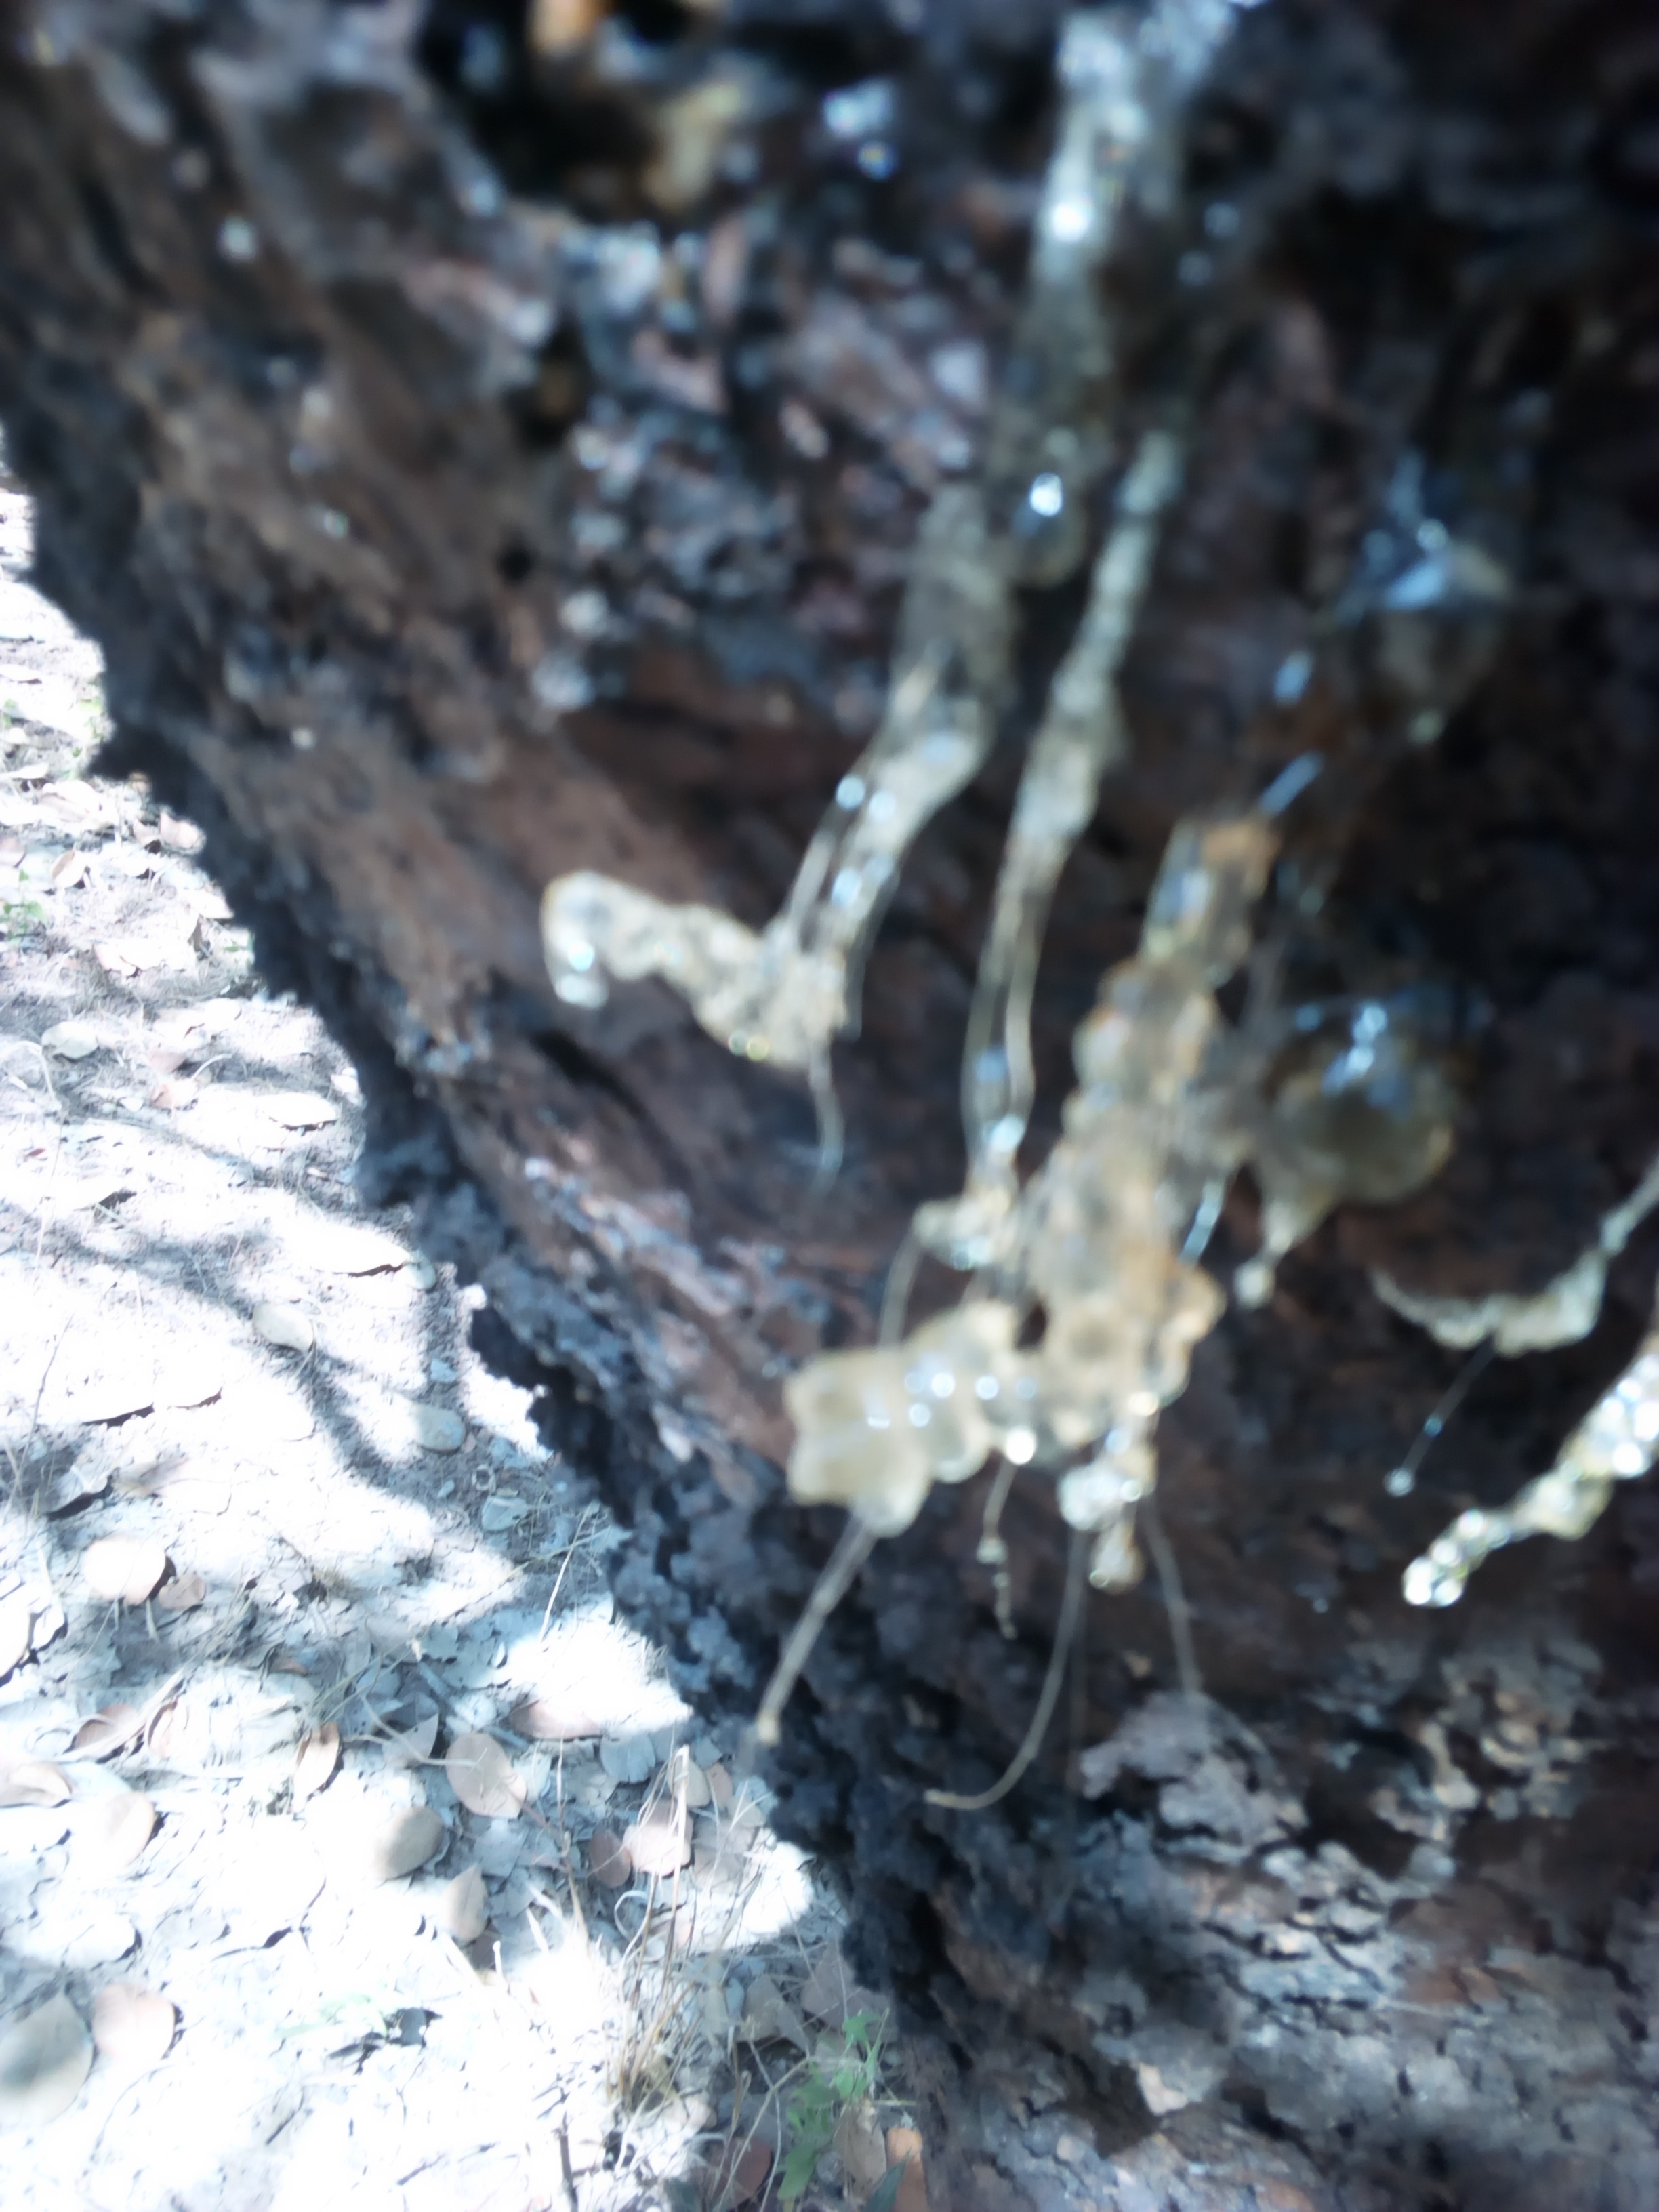Gommose: (575, 19, 1582, 1519)
